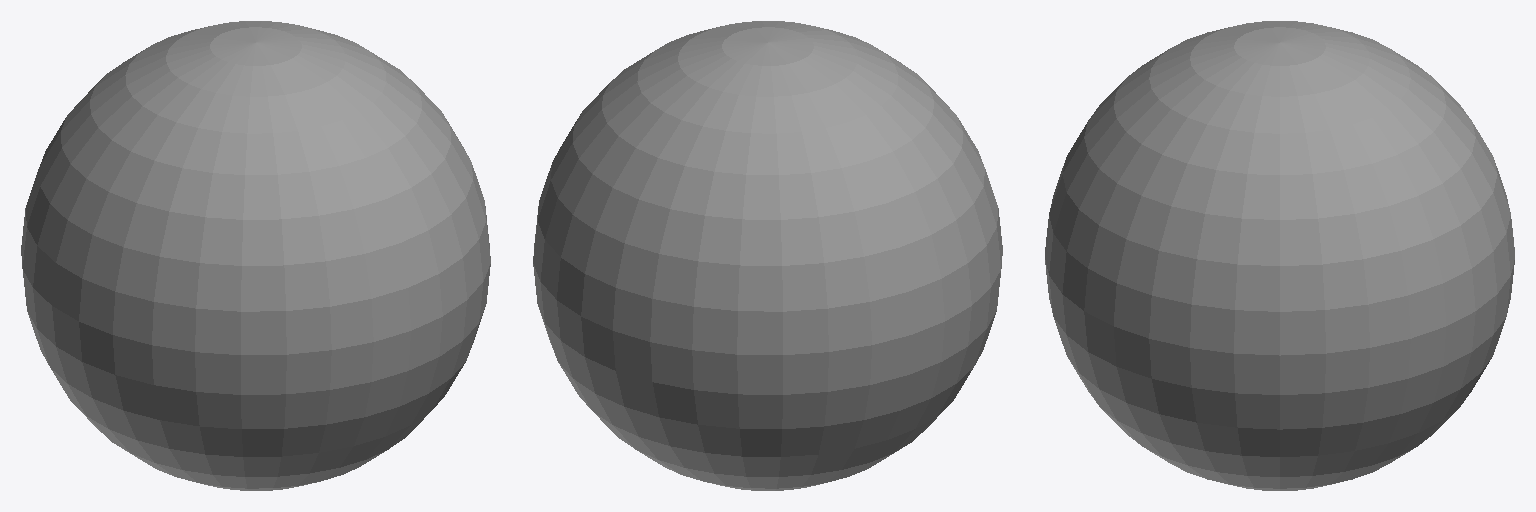
Rendered from light-orb.obj.
The picture shows the model from 3 angles: view 1: azimuth 30°, elevation 25°; view 2: azimuth 150°, elevation 25°; view 3: azimuth 270°, elevation 25°; orthographic projection.
Visible parts, largest first — view 1: Sphere; view 2: Sphere; view 3: Sphere.
Part boxes in pixels (x1,y1,x2,y2): Sphere: (21, 21, 490, 490); Sphere: (533, 21, 1002, 490); Sphere: (1045, 21, 1514, 490).
Bounding box in the file's own units: 0.2754 × 0.2754 × 0.2754.